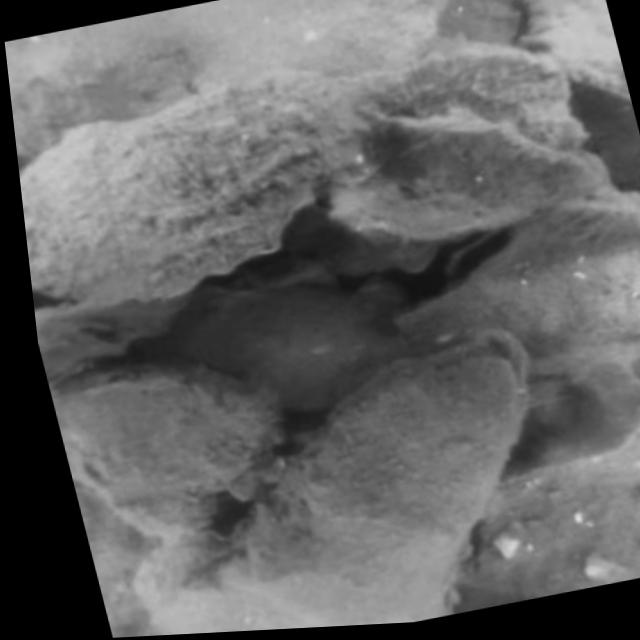Oyster-Closed: (234, 328, 528, 627), (327, 118, 614, 248)
Oyster-Indeterminate: (20, 78, 369, 309), (409, 199, 640, 378), (54, 357, 279, 533), (452, 447, 640, 608), (156, 284, 389, 409), (136, 508, 309, 636), (368, 42, 569, 144), (524, 0, 627, 96), (540, 193, 640, 240)
